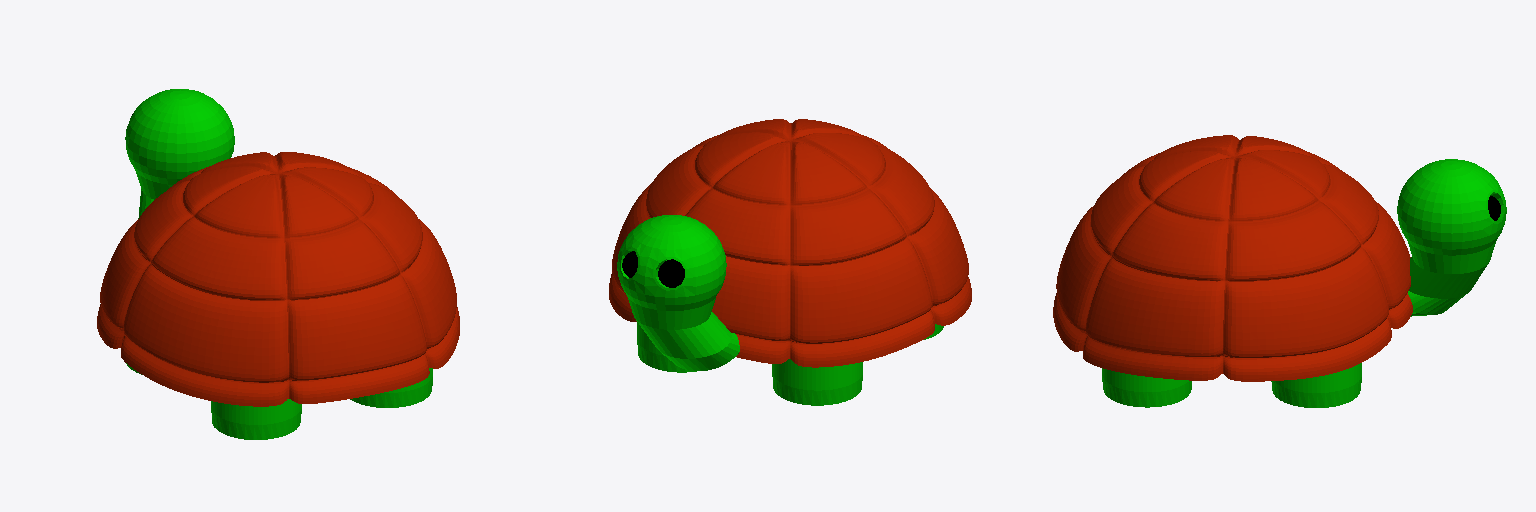
Rendered from tortue.obj.
3 views of the same model, side by side, from view 1: azimuth 30°, elevation 25°; view 2: azimuth 150°, elevation 25°; view 3: azimuth 270°, elevation 25° (orthographic).
Visible parts, largest first — view 1: Sphère, Sphère.001, Cylindre.003, Cylindre.002; view 2: Sphère, Sphère.001, Cylindre, Cylindre.001, Sphère.002; view 3: Sphère, Sphère.001, Cylindre.001, Cylindre.002.
Boxes of the visible parts, x1,y1,x2,y2 form: Sphère: [97, 152, 459, 406]; Sphère.001: [125, 89, 234, 218]; Cylindre.003: [211, 399, 301, 439]; Cylindre.002: [350, 368, 432, 407]; Sphère: [609, 119, 971, 367]; Sphère.001: [617, 215, 739, 370]; Cylindre: [772, 359, 862, 405]; Cylindre.001: [637, 322, 696, 372]; Sphère.002: [658, 259, 684, 287]; Sphère: [1053, 135, 1412, 381]; Sphère.001: [1397, 159, 1506, 316]; Cylindre.001: [1271, 363, 1361, 407]; Cylindre.002: [1102, 368, 1191, 407].
Size of the model in its own units: 1.98 by 1.24 by 2.48.